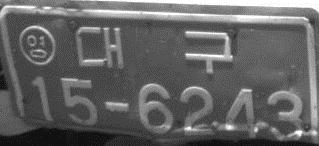-: (102, 94, 131, 121)
1: (25, 75, 57, 122)
2: (179, 84, 215, 136)
3: (267, 88, 304, 142)
4: (224, 87, 259, 138)
5: (60, 77, 98, 126)
6: (137, 82, 173, 135)
대구_D: (75, 25, 233, 73)
영: (18, 25, 56, 66)
